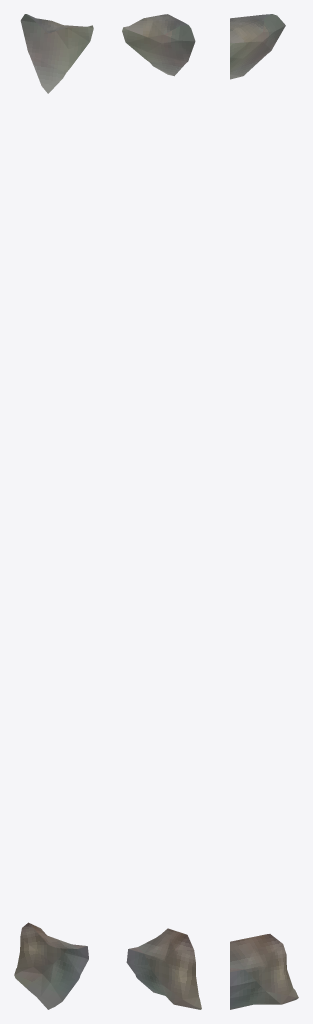
The model's file is Tile_+004_+001_L22_00030100.glb.
3 renders of one model, left to right at view 1: azimuth 30°, elevation 25°; view 2: azimuth 210°, elevation 25°; view 3: azimuth 270°, elevation 25°, orthographic.
Visible parts, largest first — view 1: rtc; view 2: rtc; view 3: rtc.
Boxes of the visible parts, box(x1,y1,x2,y2) form: rtc: box(14, 14, 93, 1009); rtc: box(122, 14, 201, 1009); rtc: box(230, 14, 298, 1009).
Bounding box in the file's own units: 0.5751 × 11.81 × 0.7425.
1 material, 1 textured.
